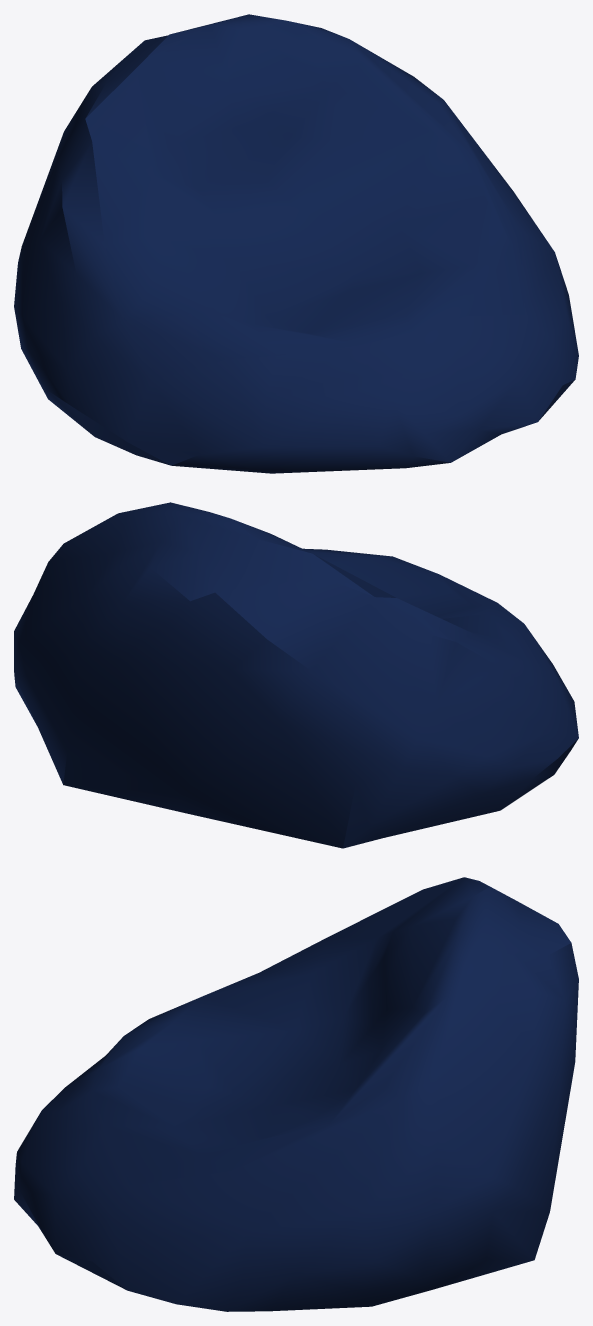
File: Beanbag_Navy.glb
3 renders of one model, top to bottom at view 1: azimuth 30°, elevation 25°; view 2: azimuth 150°, elevation 25°; view 3: azimuth 270°, elevation 25°, orthographic. The views are drawn at different scales.
Parts seen in each view (by area): view 1: Puf_Blue; view 2: Puf_Blue; view 3: Puf_Blue.
Part boxes in pixels (<box>): Puf_Blue: <box>14,14,578,473</box>; Puf_Blue: <box>14,502,578,848</box>; Puf_Blue: <box>14,877,578,1311</box>.
Size of what is drawn, in the model's own units: 1.81 by 0.9886 by 1.73.
1 material, 1 textured.
